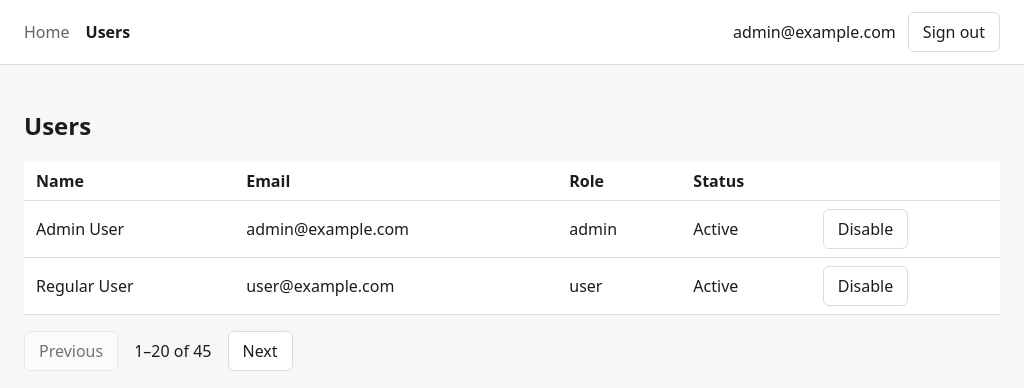
UsersPage › pages through results
Click the button "Next" at (260, 351), box [228,331,293,371]
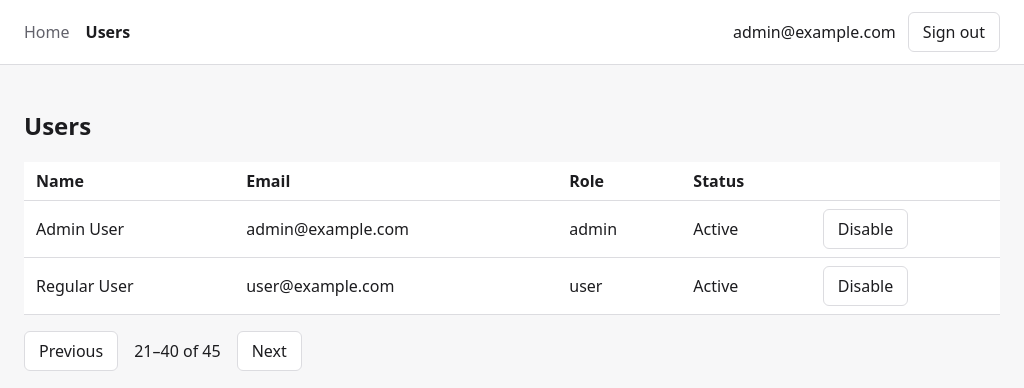
Expected: the text "21–40 of 45" is shown, [134,340,221,362]
Click the button "Previous" at (71, 351), box [24,331,118,371]
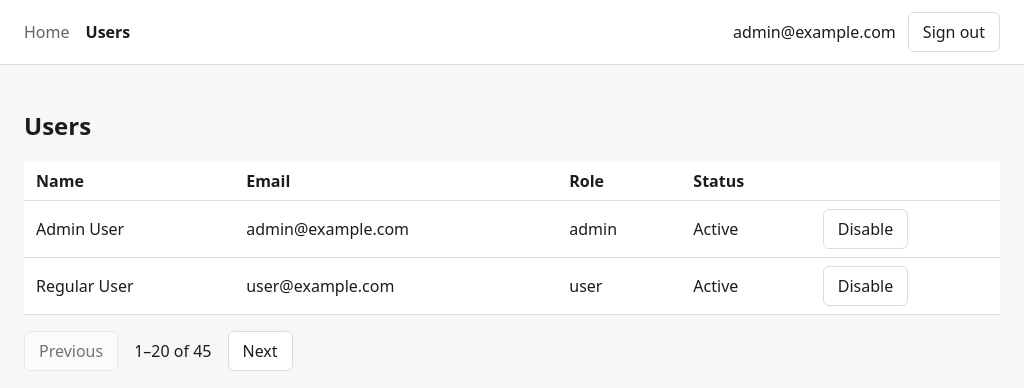
Expected: the text "1–20 of 45" is shown, [134,340,212,362]
